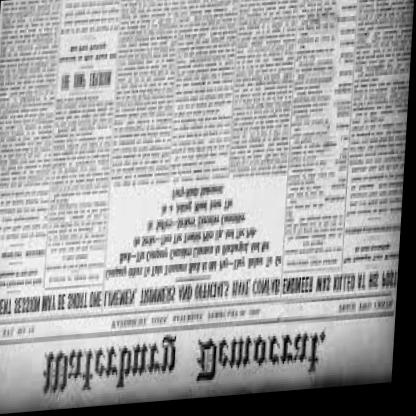trash: (0, 0, 412, 412)
